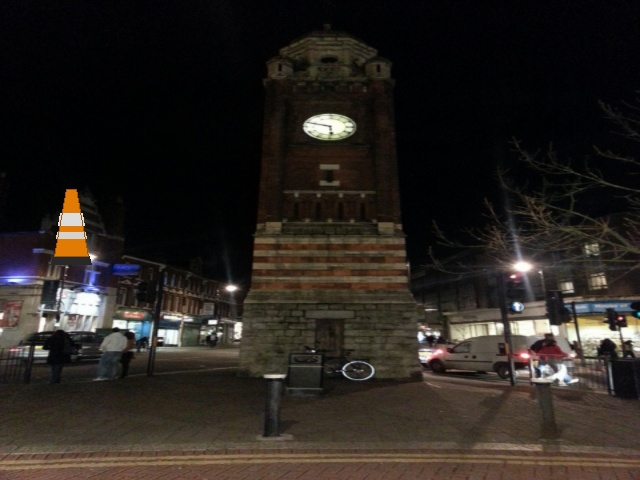traffic-cone: (51, 189, 91, 264)
